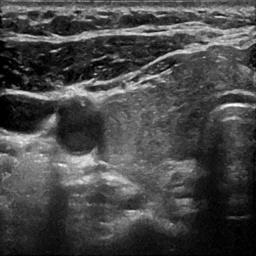mass: (98, 95, 141, 161)
